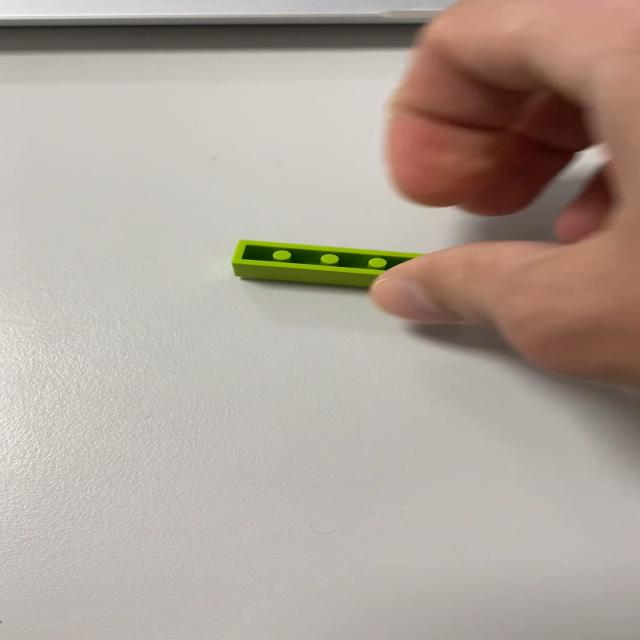C4x1x1: (230, 238, 426, 288)
